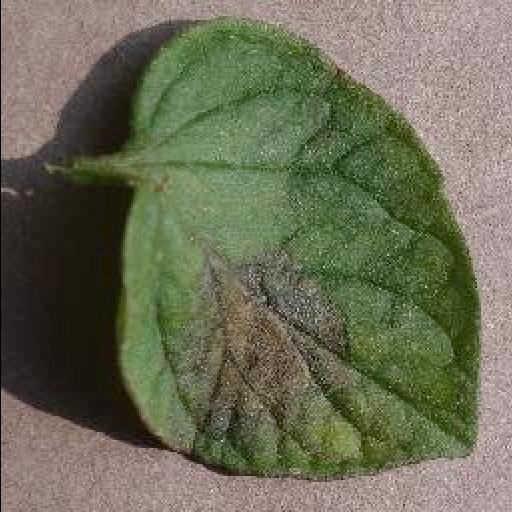disease_tomato: (114, 15, 486, 481)
